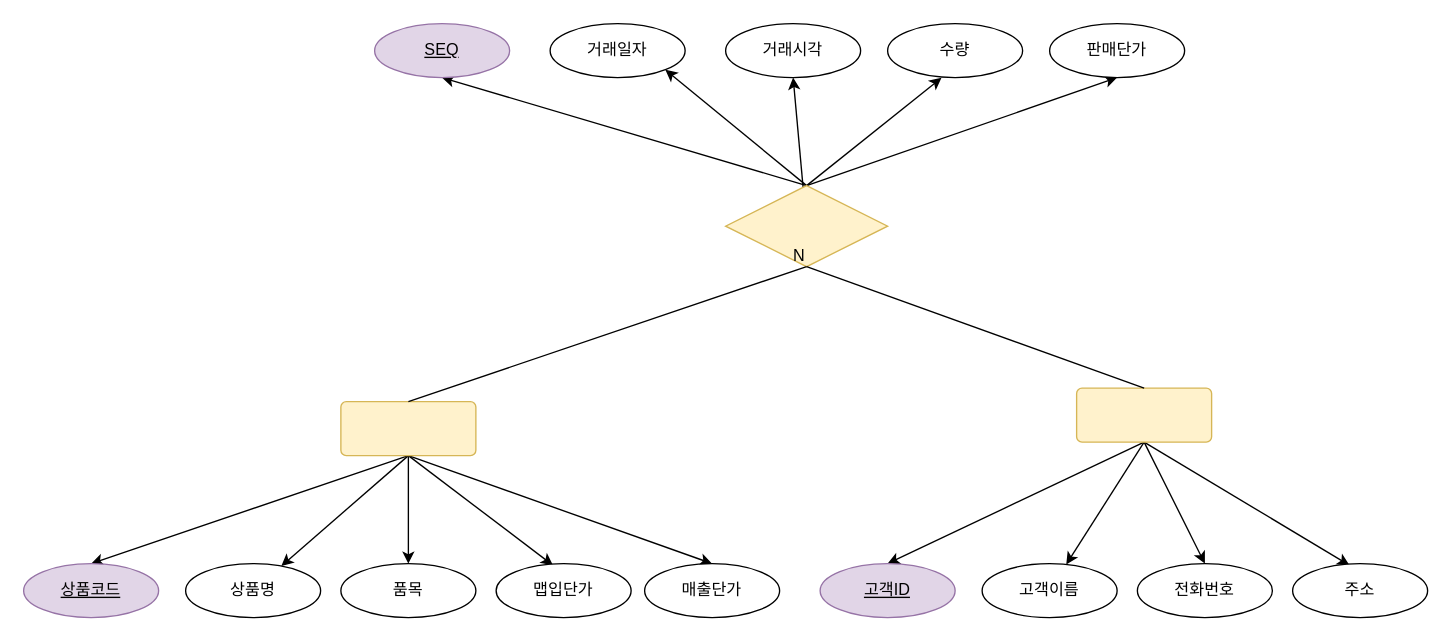
Some shapes in this 1451 by 641 pixel diagram are drawn without their labels. Each missing label, with the centre of its shape:
고객정보: [1143,414]
상품정보: [408,428]
판매내역: [806,225]
